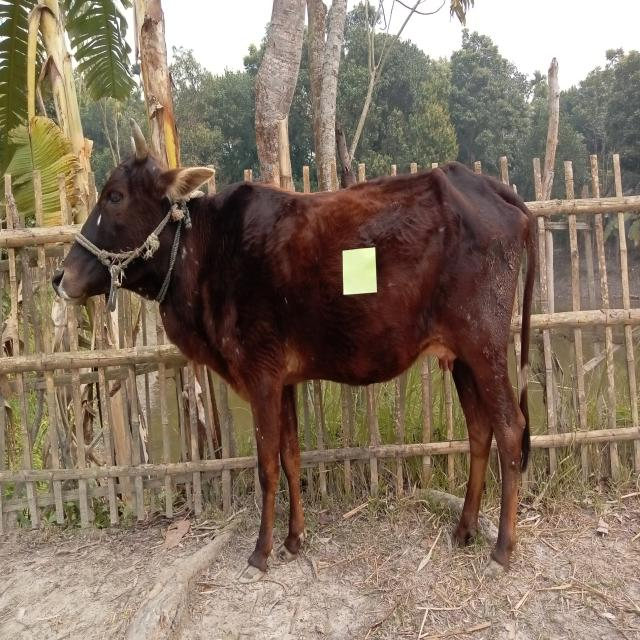badan_sapi: (251, 188, 506, 387)
sapi: (52, 118, 548, 577)
